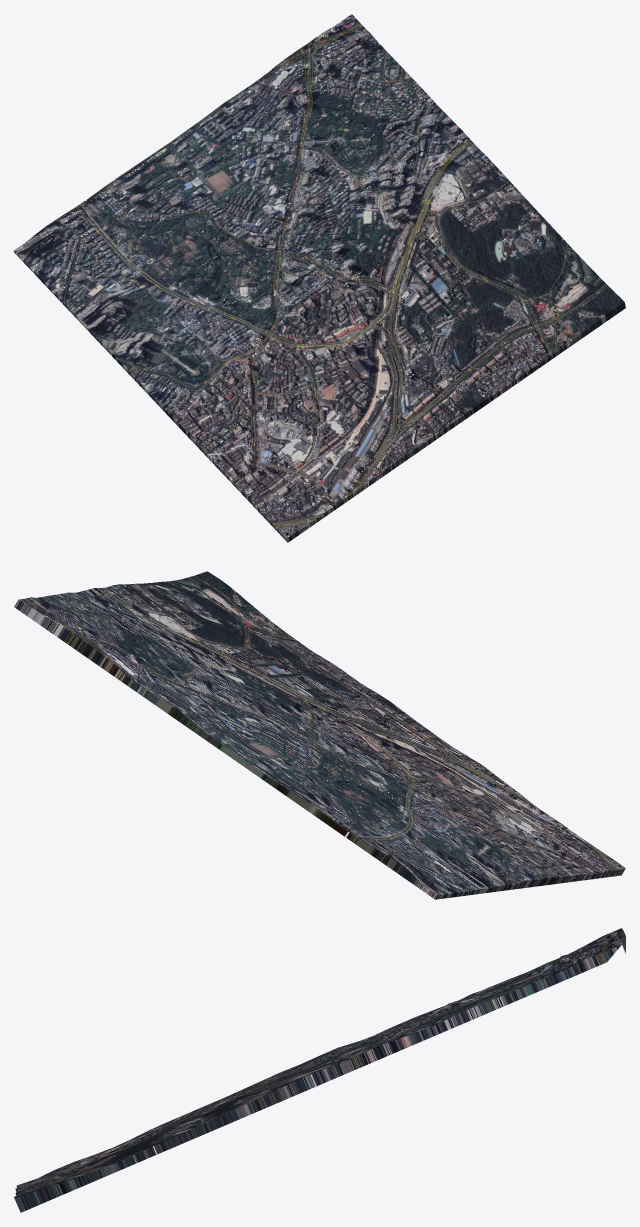
3 renders of one model, top to bottom at view 1: azimuth 30°, elevation 25°; view 2: azimuth 150°, elevation 25°; view 3: azimuth 270°, elevation 25°, orthographic. The views are drawn at different scales.
Visible parts, largest first — view 1: 2_1_4; view 2: 2_1_4; view 3: 2_1_4.
Part boxes in pixels (left/top/right/bottom): 2_1_4: left=14, top=14, right=625, bottom=542; 2_1_4: left=14, top=571, right=625, bottom=899; 2_1_4: left=14, top=928, right=625, bottom=1212.
Size of the model in its own units: 2453 by 1801 by 2262.
1 material, 1 textured.
